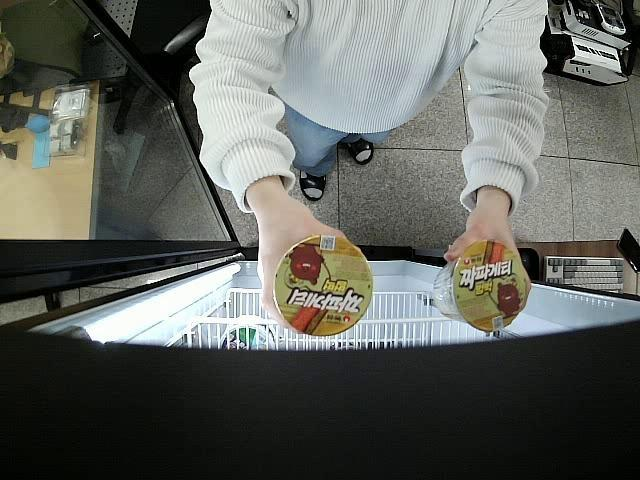04_chapagetti_S: (274, 236, 372, 334), (430, 241, 530, 330)
